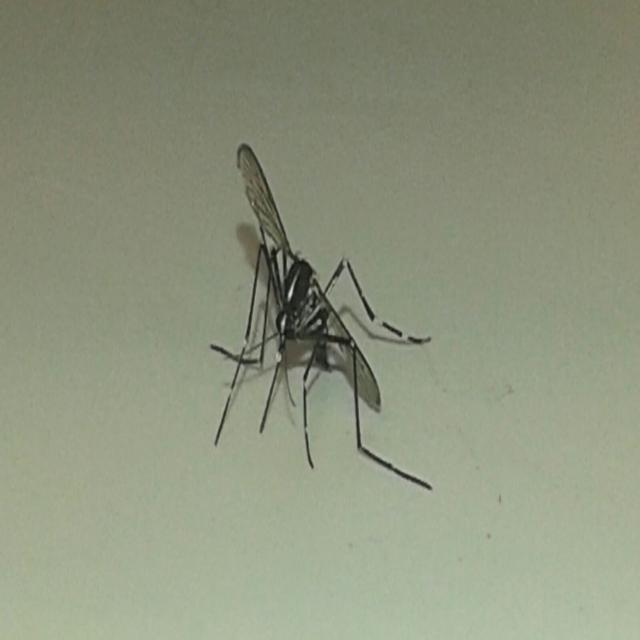albopictus: (202, 128, 439, 512)
